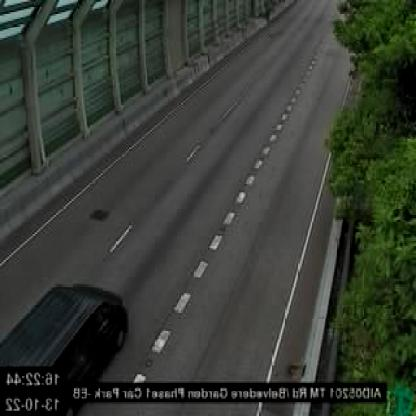Car: (2, 282, 128, 400)
